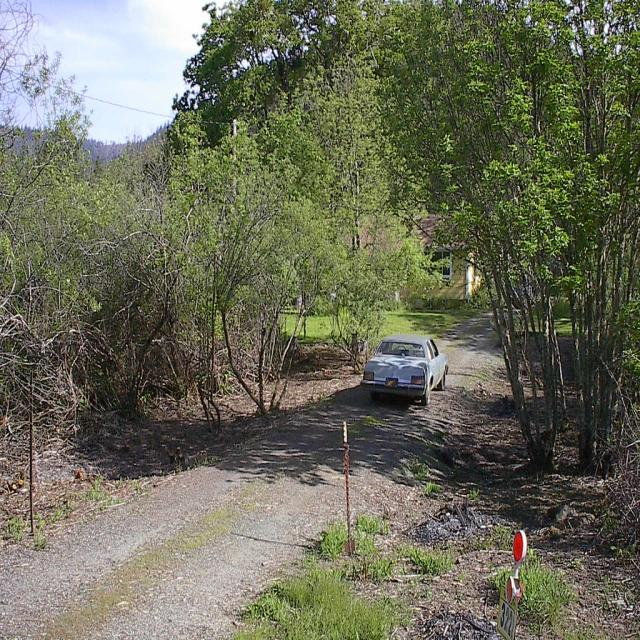car: (361, 335, 448, 404)
